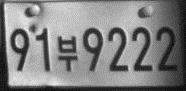1: (34, 26, 52, 72)
2: (106, 26, 130, 74), (154, 25, 178, 73), (130, 26, 153, 73)
9: (81, 26, 104, 72), (9, 28, 30, 71)
부: (56, 35, 78, 72)
